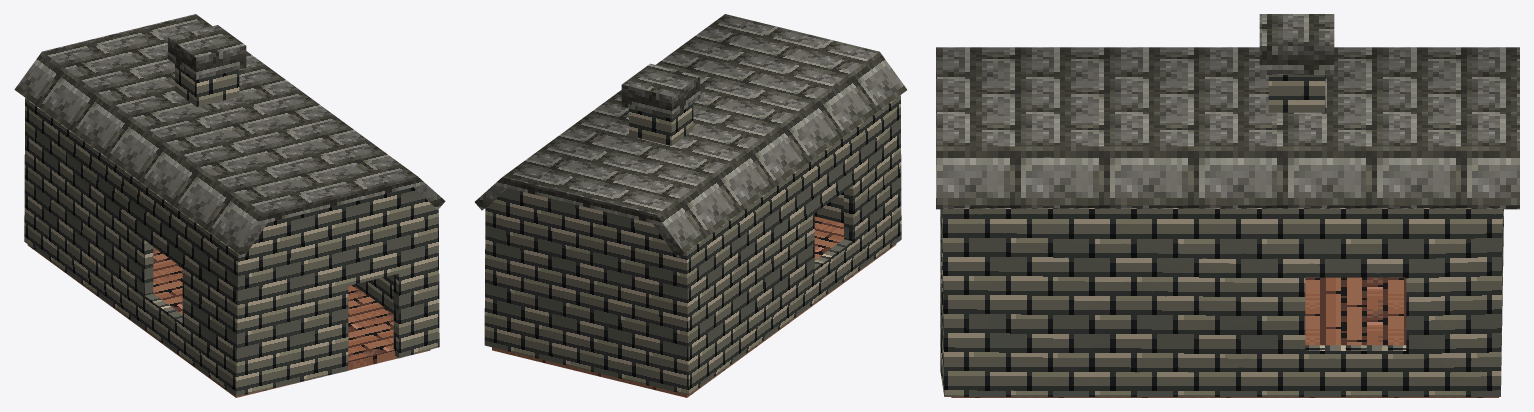
The model's file is blacksmith.obj.
3 renders of one model, left to right at view 1: azimuth 30°, elevation 25°; view 2: azimuth 150°, elevation 25°; view 3: azimuth 270°, elevation 25°, orthographic. The views are drawn at different scales.
Visible parts, largest first — view 1: muren, dak, vloeronder, Object002, Object001; view 2: muren, dak, Object002, vloeronder, Object001; view 3: muren, dak, vloeronder, Object002, Object001.
Part boxes in pixels (x1,y1,x2,y2): muren: (24, 98, 439, 396); dak: (14, 14, 445, 256); vloeronder: (27, 244, 430, 397); Object002: (168, 25, 246, 79); Object001: (175, 64, 239, 106); muren: (484, 95, 901, 395); dak: (475, 14, 906, 257); Object002: (621, 63, 700, 118); vloeronder: (492, 216, 896, 397); Object001: (629, 103, 693, 145); muren: (940, 208, 1503, 396); dak: (936, 47, 1519, 209); vloeronder: (951, 277, 1498, 397); Object002: (1259, 14, 1334, 74); Object001: (1268, 75, 1325, 112).
Bounding box in the file's own units: 7.59 × 8.15 × 13.95.
